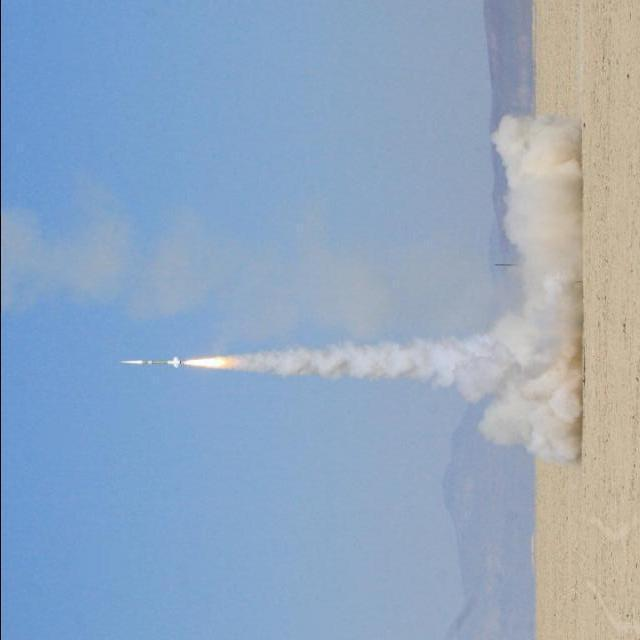missile: (119, 349, 181, 377)
